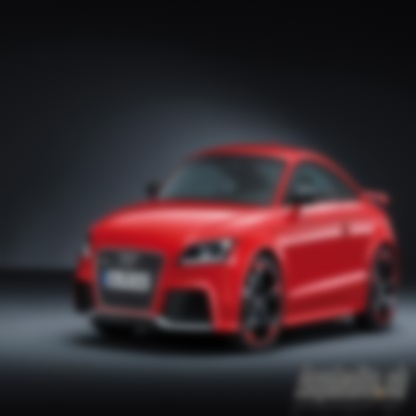Vehicle: (72, 143, 400, 356)
